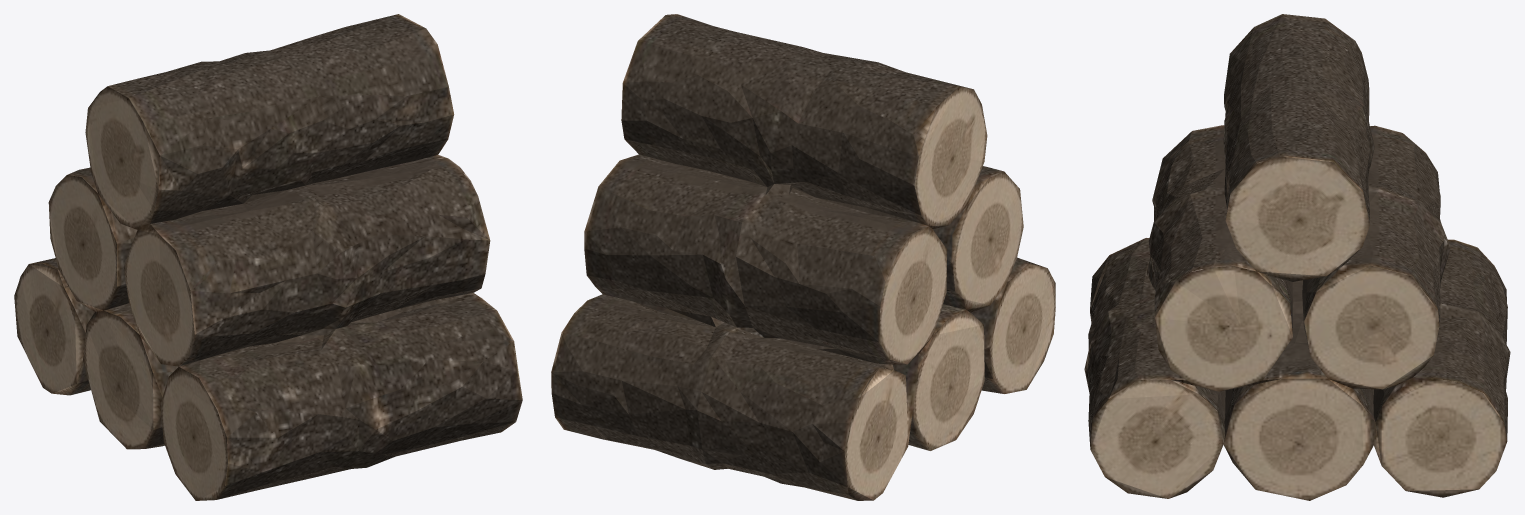
File: logs.glb
The picture shows the model from 3 angles, left to right: view 1: azimuth 30°, elevation 25°; view 2: azimuth 150°, elevation 25°; view 3: azimuth 270°, elevation 25°; orthographic projection. The views are drawn at different scales.
Parts seen in each view (by area): view 1: lo; view 2: lo; view 3: lo.
Part boxes in pixels (x1,y1,x2,y2): lo: [14, 14, 522, 500]; lo: [551, 14, 1055, 500]; lo: [1084, 14, 1510, 500].
Size of the model in its own units: 0.7837 by 0.895 by 0.9955.
1 material, 1 textured.
